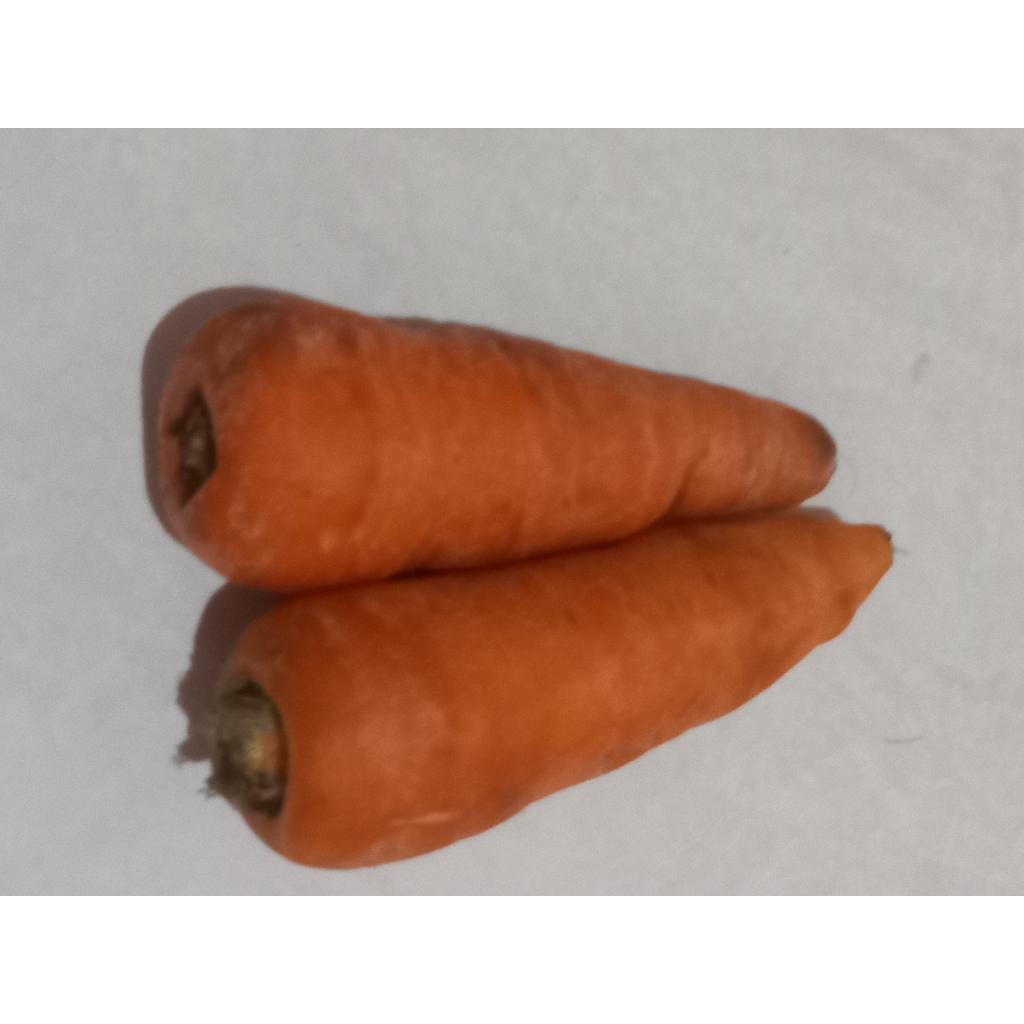carrot: (212, 512, 892, 868), (154, 290, 834, 592)
